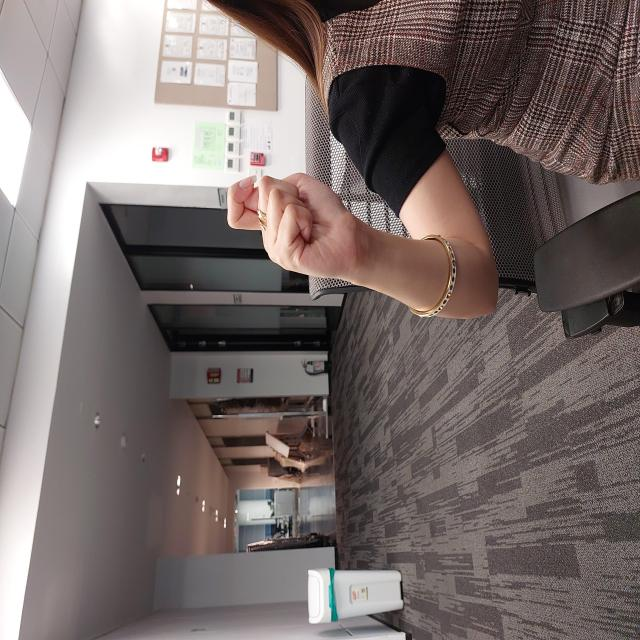T: (361, 225, 472, 363)
